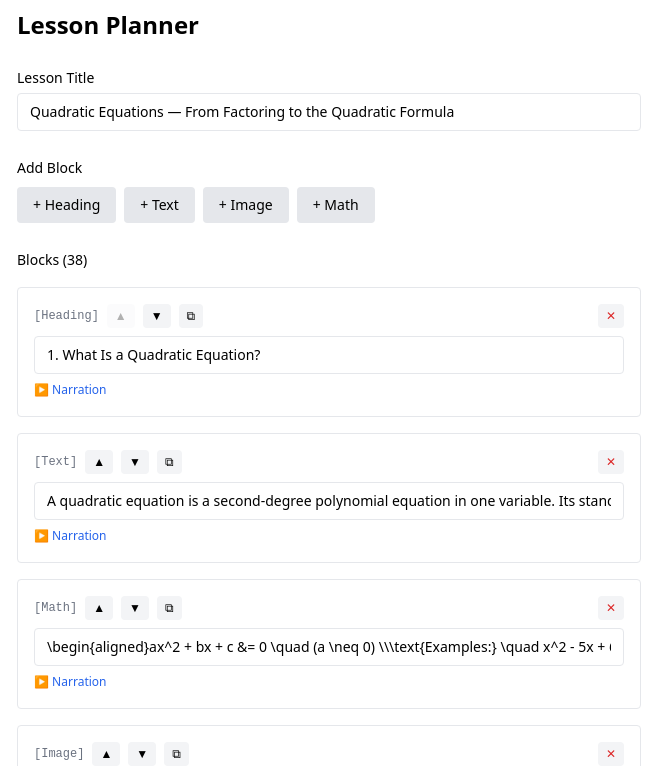
it: LessonPlanner › adds a heading block to existing seed blocks
This screenshot has width=658, height=766.
Click the button "+ Heading" at (67, 205), box [17,187,116,223]
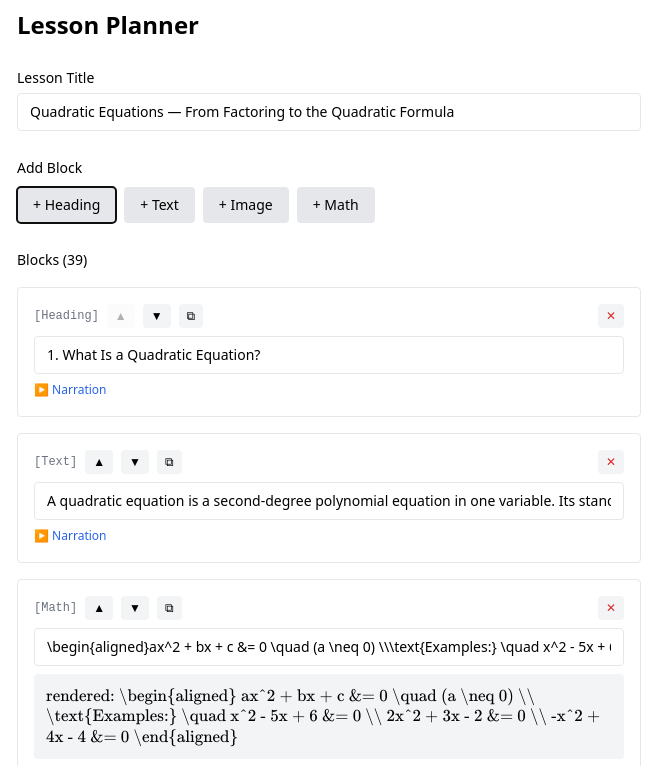
Now the text "Blocks (39)" is shown, box [17,250,87,269]
